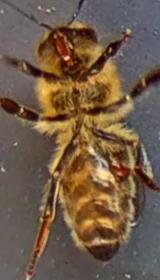varroa_mite: (100, 147, 132, 181)
